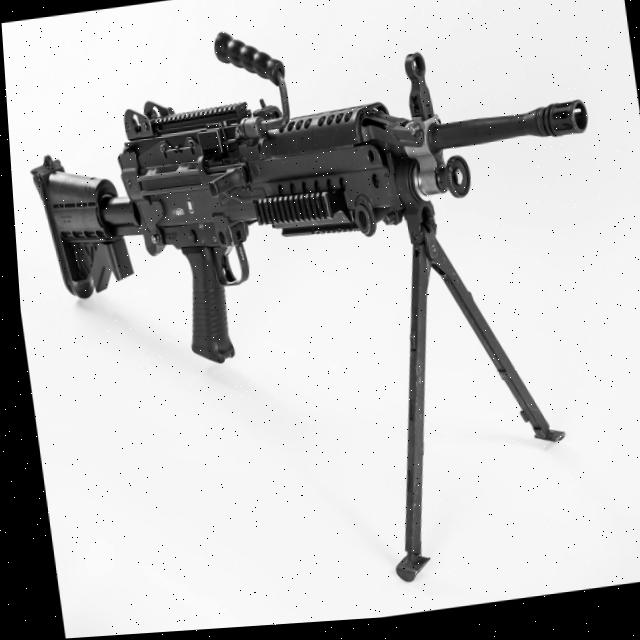firearm: (14, 0, 640, 631)
